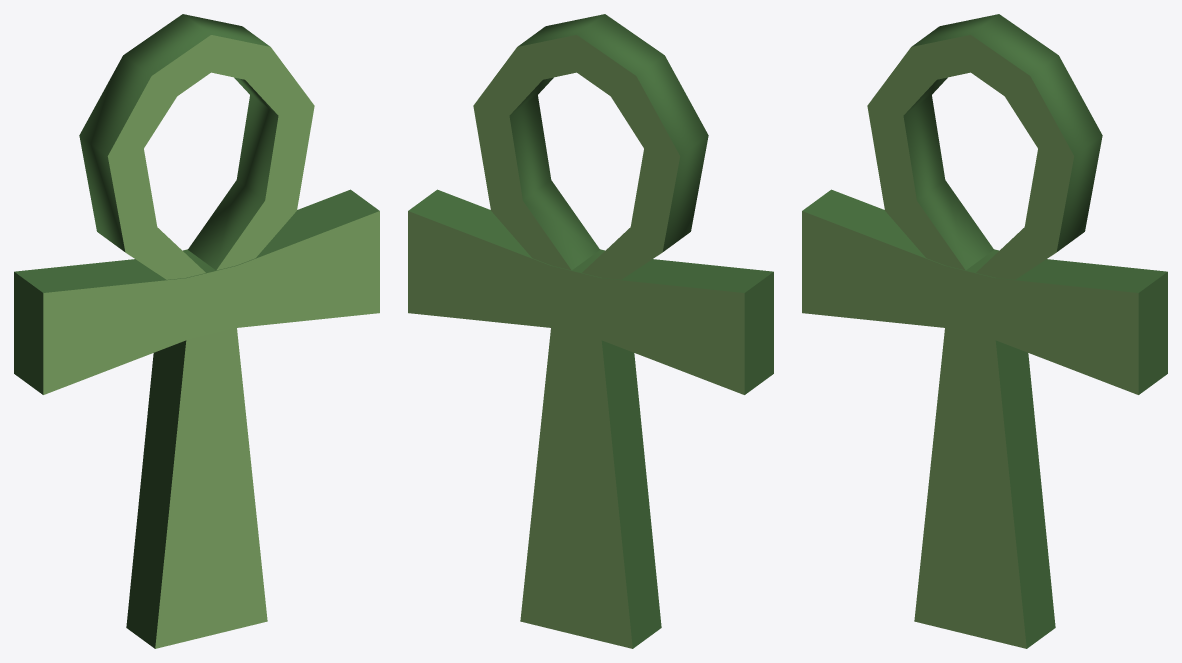
File: Ankh Green.fbx
3 renders of one model, left to right at view 1: azimuth 30°, elevation 25°; view 2: azimuth 150°, elevation 25°; view 3: azimuth 330°, elevation 25°, orthographic.
Visible parts, largest first — view 1: Ankh Green; view 2: Ankh Green; view 3: Ankh Green.
Boxes of the visible parts, x1=… form: Ankh Green: x1=14, y1=14, x2=379, y2=648; Ankh Green: x1=408, y1=14, x2=773, y2=648; Ankh Green: x1=802, y1=14, x2=1167, y2=648.
Size of the model in its own units: 2.06 by 0.3106 by 3.52.
1 material, 1 textured.
